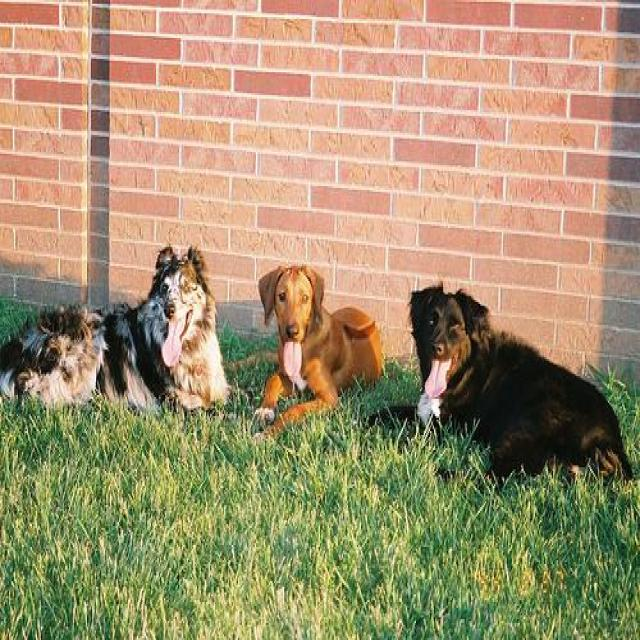rhodesian_ridgeback: (252, 260, 384, 454)
